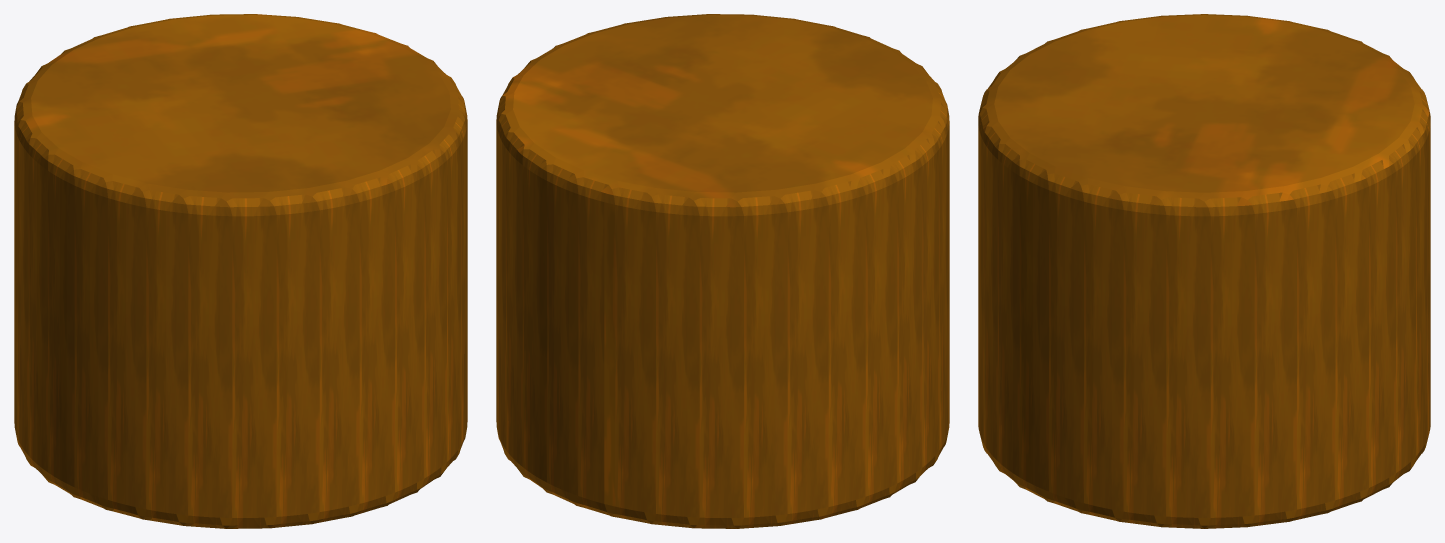
File: RR_Resource_Rubber.obj
The picture shows the model from 3 angles, left to right: view 1: azimuth 30°, elevation 25°; view 2: azimuth 150°, elevation 25°; view 3: azimuth 270°, elevation 25°; orthographic projection.
Visible parts, largest first — view 1: Cylinder.001; view 2: Cylinder.001; view 3: Cylinder.001.
Boxes of the visible parts, bbox=[...] form: Cylinder.001: bbox=[14, 14, 467, 528]; Cylinder.001: bbox=[496, 14, 949, 528]; Cylinder.001: bbox=[978, 14, 1430, 528].
Size of the model in its own units: 2.82 by 2.31 by 2.82.
